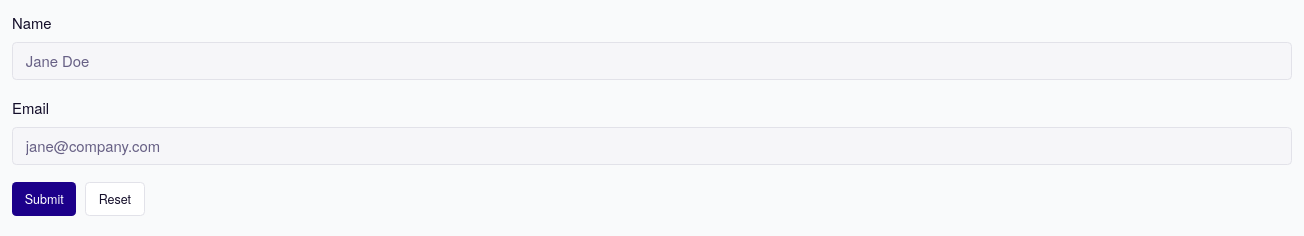
DashboardForm › Form Interactions › handles form reset
Type "John Doe" into the field labelled "Name".
click(652, 61); type("John Doe")  # box [12,42,1292,80]
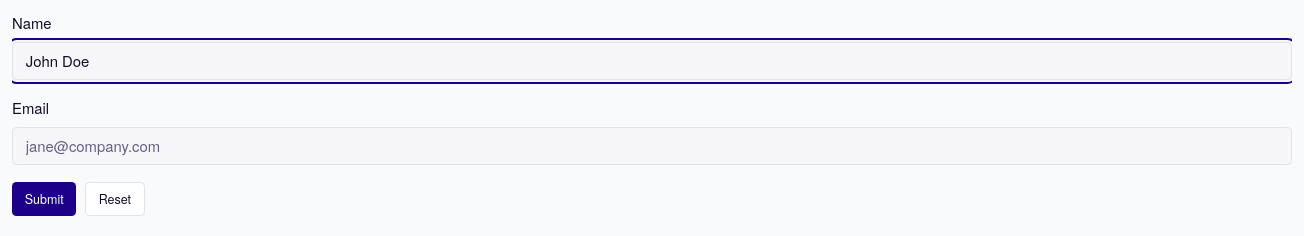
Type "john@example.com" into the field labelled "Email".
click(652, 146); type("john@example.com")  # box [12,127,1292,165]
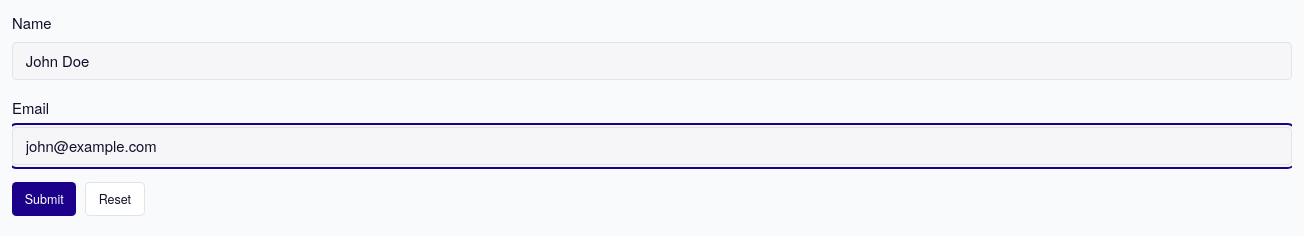
Click the button "Reset".
click(115, 199)  # box [85,182,145,216]
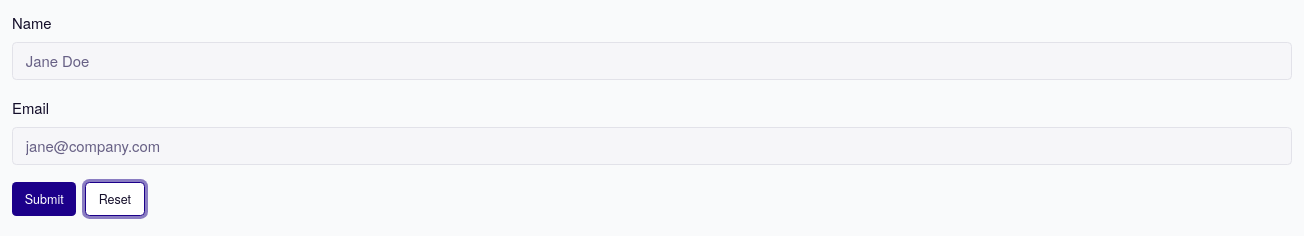
Expected: the field labelled "Name" is empty, [12,42,1292,80]
Expected: the field labelled "Email" is empty, [12,127,1292,165]
